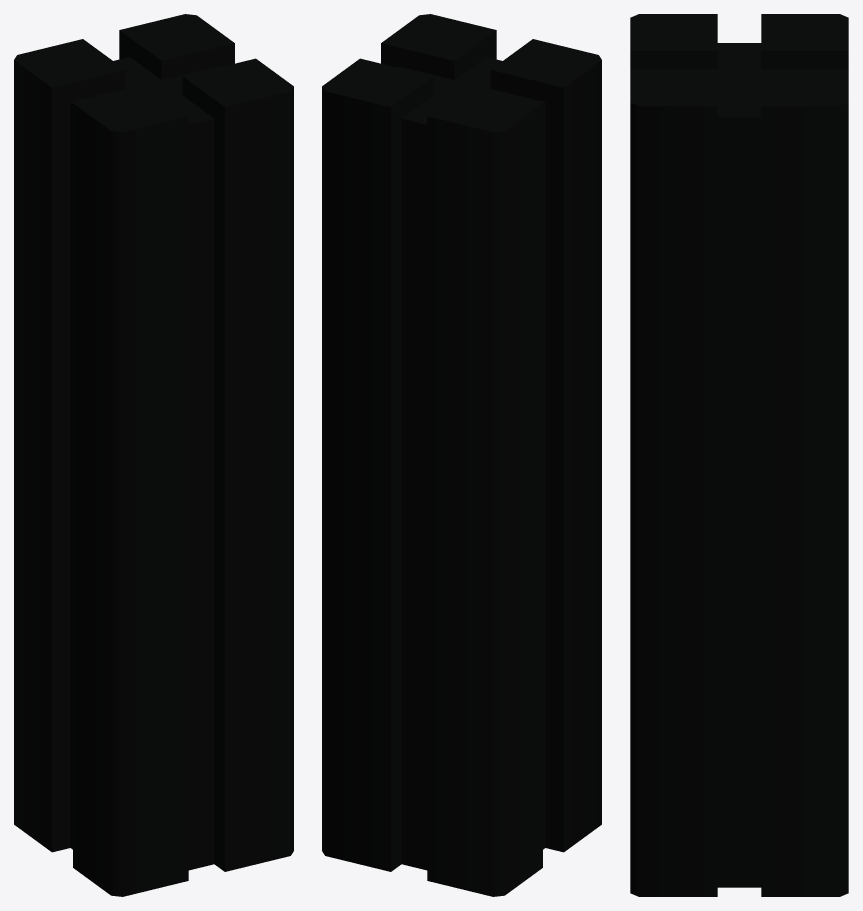
File: low-detail-building-g.glb
3 renders of one model, left to right at view 1: azimuth 30°, elevation 25°; view 2: azimuth 150°, elevation 25°; view 3: azimuth 270°, elevation 25°, orthographic. The views are drawn at different scales.
Parts seen in each view (by area): view 1: low-detail-building-g; view 2: low-detail-building-g; view 3: low-detail-building-g.
Boxes of the visible parts, x1,y1,x2,y2 form: low-detail-building-g: (14,14,293,896); low-detail-building-g: (322,14,601,896); low-detail-building-g: (630,14,848,896).
Bounding box in the file's own units: 0.5003 × 2 × 0.5003.
1 material, 1 textured.
